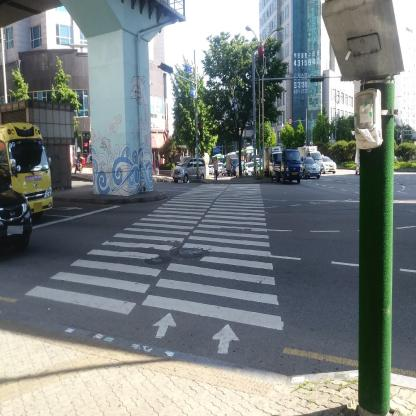Red: (200, 123, 204, 140)
